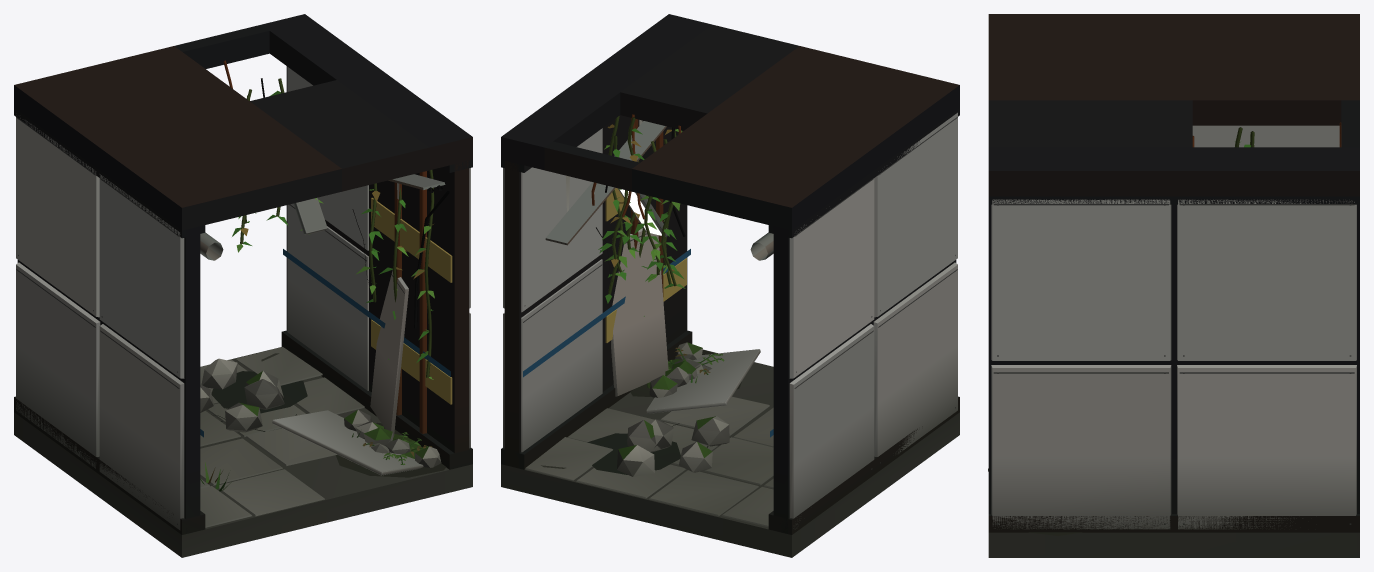
Rendered from kit_hallway_broken.glb.
The picture shows the model from 3 angles, left to right: view 1: azimuth 30°, elevation 25°; view 2: azimuth 150°, elevation 25°; view 3: azimuth 270°, elevation 25°; orthographic projection. The views are drawn at different scales.
Parts seen in each view (by area): view 1: Mesh; view 2: Mesh; view 3: Mesh.
Boxes of the visible parts, x1=… form: Mesh: x1=14, y1=14, x2=472, y2=557; Mesh: x1=501, y1=14, x2=959, y2=557; Mesh: x1=988, y1=14, x2=1359, y2=557.
Bounding box in the file's own units: 4.1 × 4.6 × 4.
